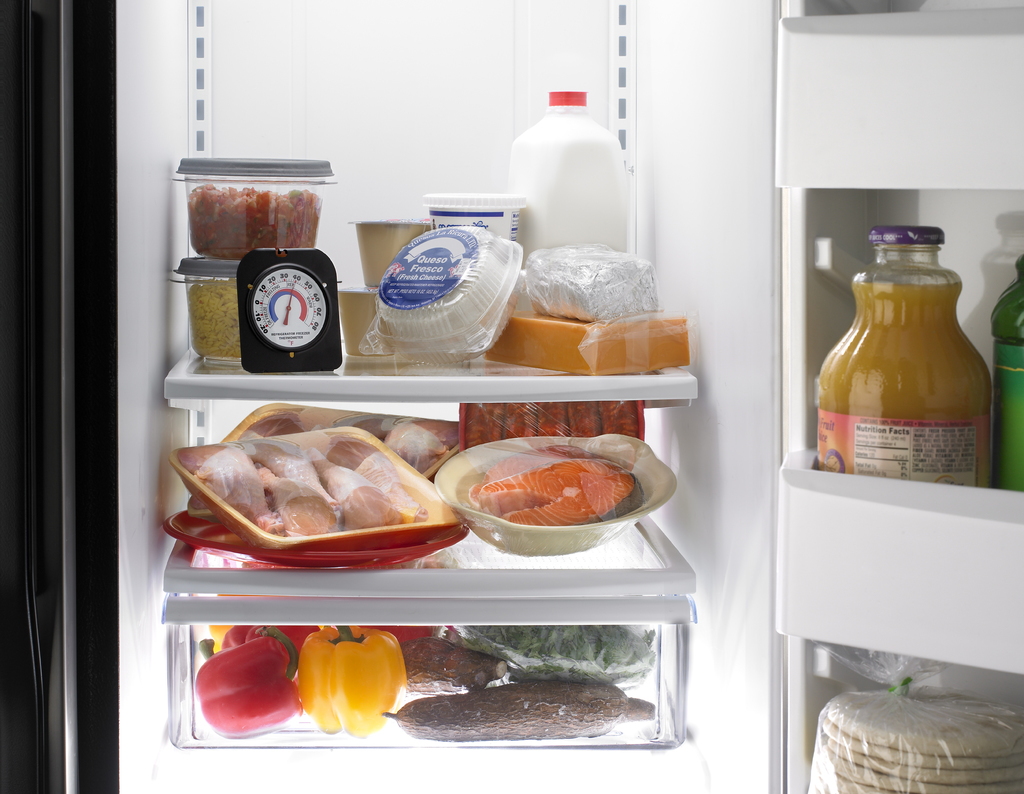refrigerator door: (794, 65, 1024, 794)
